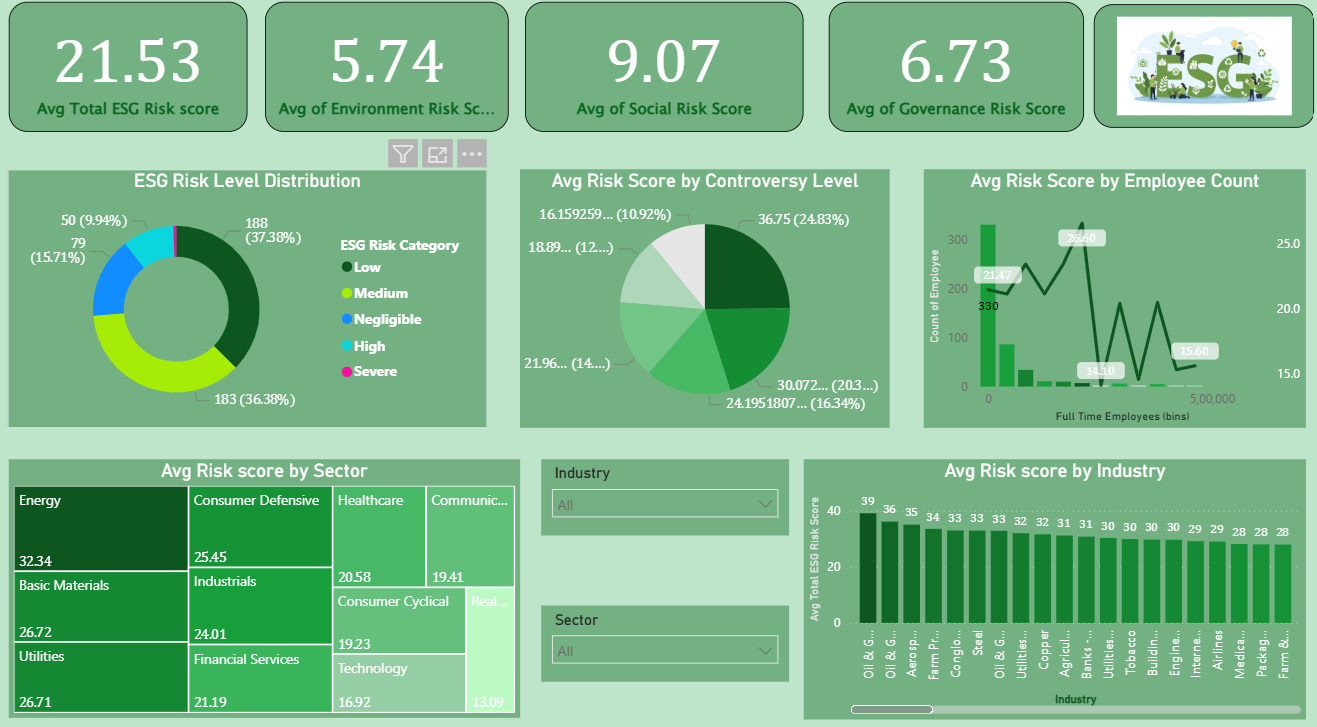

Layout of this report page (visuals, bound fields, positions):
{"tool":"powerbi","page":{"name":"Page 1","canvas":[1280,720],"ordinal":0},"visuals":[{"type":"card","fields":{"Values":["Avg(SP 500 ESG Risk Ratings.Total ESG Risk score)"]},"box":[8.4,8.4,230.4,125.5],"z":0},{"type":"card","fields":{"Values":["Avg(SP 500 ESG Risk Ratings.Environment Risk Score)"]},"box":[255.8,8.4,235.3,125.5],"z":1000},{"type":"card","fields":{"Values":["Avg(SP 500 ESG Risk Ratings.Social Risk Score)"]},"box":[506.7,8.4,269,125.5],"z":2000},{"type":"card","fields":{"Values":["Avg(SP 500 ESG Risk Ratings.Governance Risk Score)"]},"box":[799.9,8.4,246.1,125.5],"z":3000},{"type":"image","box":[1055.6,10.9,213.5,119.4],"z":4000},{"type":"donutChart","title":" ESG Risk Level Distribution","fields":{"Category":["esgriskscore.ESG Risk Category"],"Y":["CountNonNull(esgriskscore.Index)"]},"box":[7.2,170.1,463.3,249.7],"z":5000},{"type":"treemap","title":"Avg Risk score by Sector","fields":{"Group":["esgriskscore.Sector"],"Values":["Avg(esgriskscore.Total ESG Risk score)"]},"box":[8.4,450,493.4,249.7],"z":6000},{"type":"columnChart","title":"Avg Risk score by Industry","fields":{"Category":["esgriskscore.Industry"],"Y":["Avg(esgriskscore.Total ESG Risk score)"]},"box":[775.7,450,485,250.9],"z":7000},{"type":"pieChart","title":"Avg Risk Score by Controversy Level","fields":{"Category":["esgriskscore.Controversy Level"],"Y":["Avg(esgriskscore.Total ESG Risk score)"]},"box":[501.9,170.1,357.1,249.7],"z":8000},{"type":"lineClusteredColumnComboChart","title":"Avg Risk Score by Employee Count","fields":{"Category":["esgriskscore.Full Time Employees (bins)"],"Y":["CountNonNull(esgriskscore.Index)"],"Y2":["Avg(esgriskscore.Total ESG Risk score)"]},"box":[891.6,170.1,369.2,249.7],"z":9000},{"type":"slicer","fields":{"Values":["esgriskscore.Industry"]},"box":[522.4,450,238.9,73.6],"z":10000},{"type":"slicer","fields":{"Values":["esgriskscore.Sector"]},"box":[522.4,591.2,238.9,73.6],"z":11000}]}

Visuals, with their boxes in screenshot pixels (x1, y1, x2, y2), scaled from the page's 1280x720 canvas onto the 1317x727 screenshot:
card - Avg(SP 500 ESG Risk Ratings.Total ESG Risk score): left=9, top=8, right=246, bottom=135
card - Avg(SP 500 ESG Risk Ratings.Environment Risk Score): left=263, top=8, right=505, bottom=135
card - Avg(SP 500 ESG Risk Ratings.Social Risk Score): left=521, top=8, right=798, bottom=135
card - Avg(SP 500 ESG Risk Ratings.Governance Risk Score): left=823, top=8, right=1076, bottom=135
image: left=1086, top=11, right=1306, bottom=132
" ESG Risk Level Distribution" donutChart: left=7, top=172, right=484, bottom=424
"Avg Risk score by Sector" treemap: left=9, top=454, right=516, bottom=707
"Avg Risk score by Industry" columnChart: left=798, top=454, right=1297, bottom=708
"Avg Risk Score by Controversy Level" pieChart: left=516, top=172, right=884, bottom=424
"Avg Risk Score by Employee Count" lineClusteredColumnComboChart: left=917, top=172, right=1297, bottom=424
slicer - esgriskscore.Industry: left=538, top=454, right=783, bottom=529
slicer - esgriskscore.Sector: left=538, top=597, right=783, bottom=671
